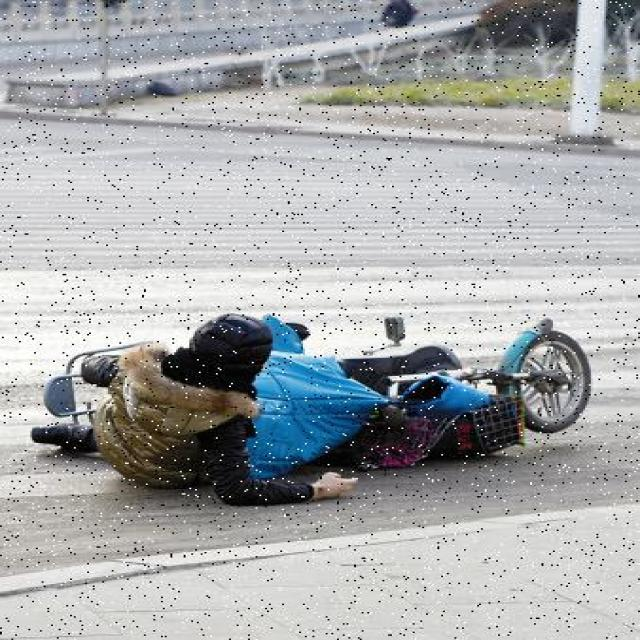fall: (70, 324, 339, 510)
